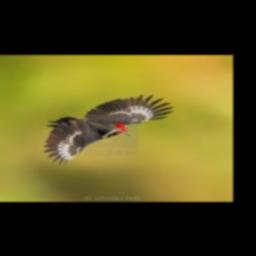Woodpecker: (43, 95, 174, 165)
